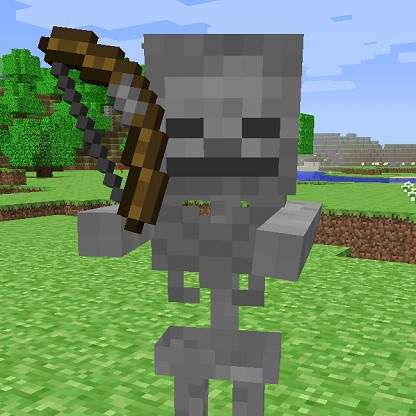skeleton: (106, 22, 326, 261)
